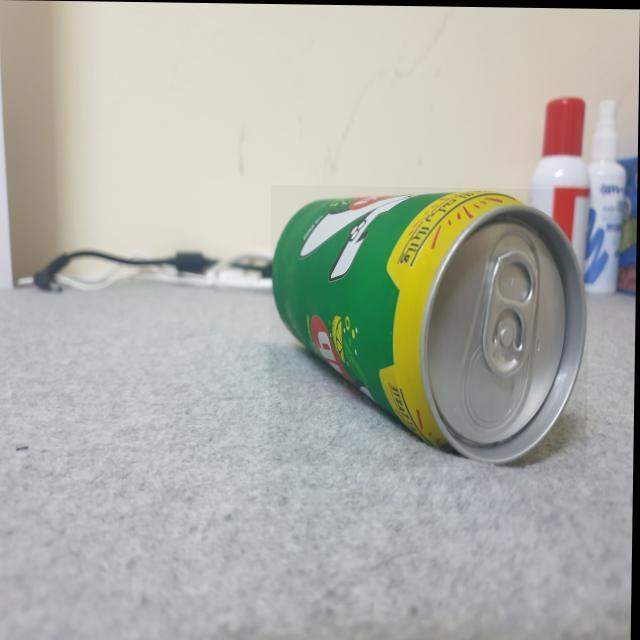trash: (260, 192, 588, 468)
